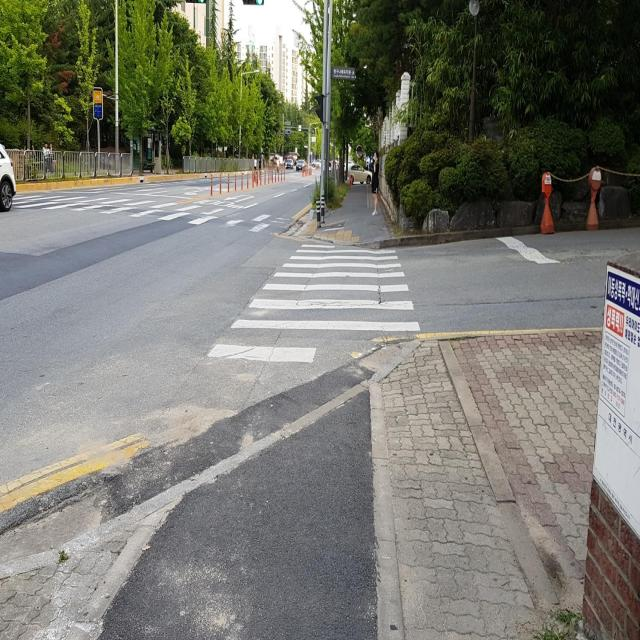횡단보도: (206, 242, 422, 366), (12, 192, 286, 237)
